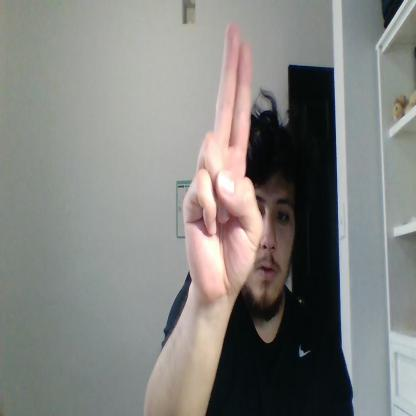U: (182, 21, 263, 299)
